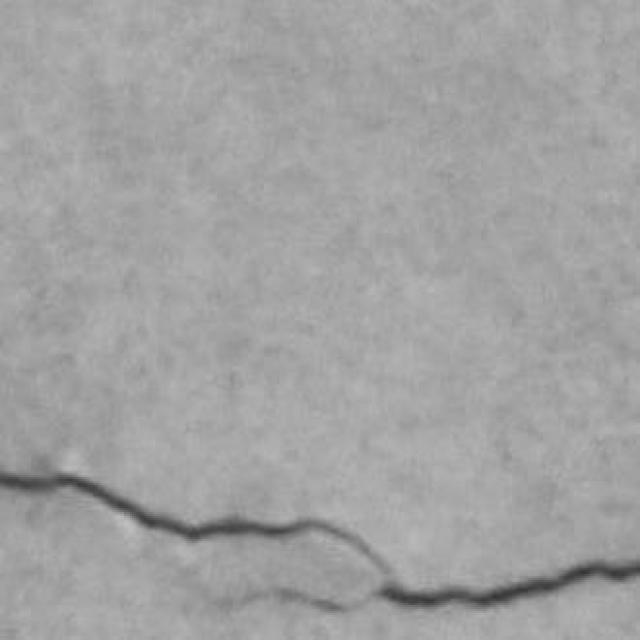crack: (0, 472, 639, 612), (0, 472, 393, 579), (375, 561, 639, 608)
